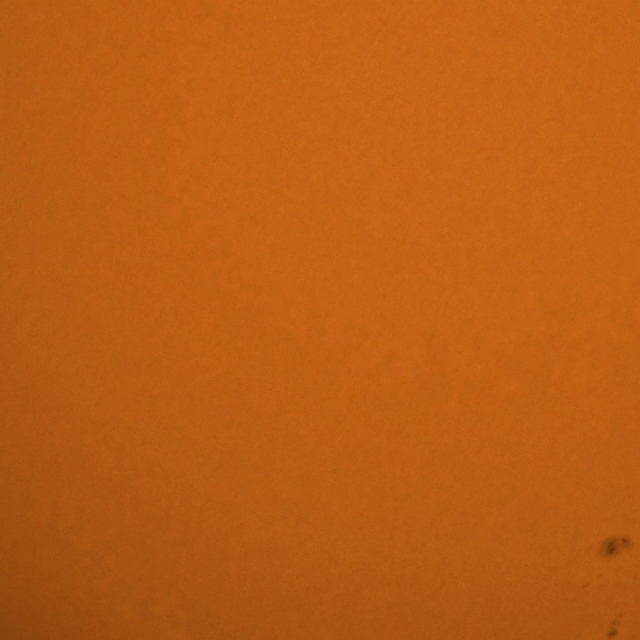sunspot: (604, 535, 636, 559), (605, 613, 623, 640)
